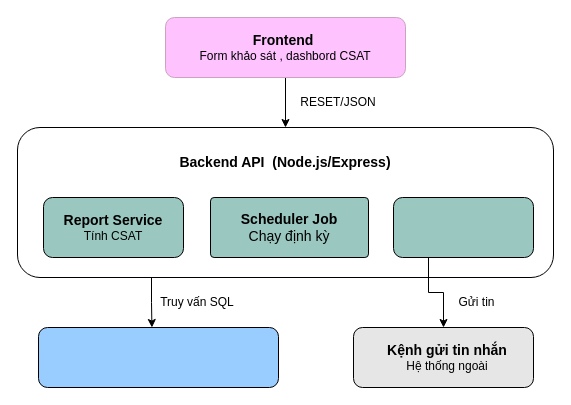
The diagram is 571 pixels wide and 405 high, and some of its shapes have lost their labels. Each missing label, with the centre of its shape:
"Postgre SQL Ticket, technician, survey_*" belongs at pixel 158 357.
"Servey Service Lưu phản hồi" belongs at pixel 463 227.
